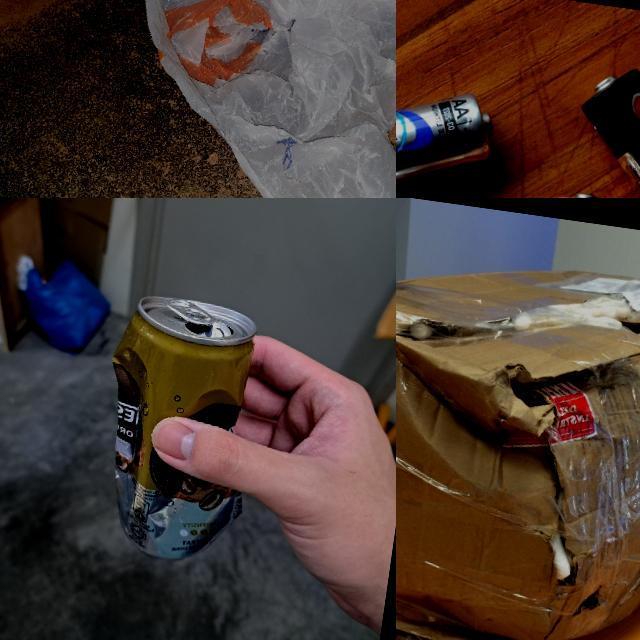aba de lata: (163, 296, 219, 328)
bateria: (396, 63, 501, 198), (555, 62, 640, 198)
lata: (86, 290, 272, 570)
papelão: (396, 223, 640, 640)
sacola plástica: (92, 0, 396, 198)
